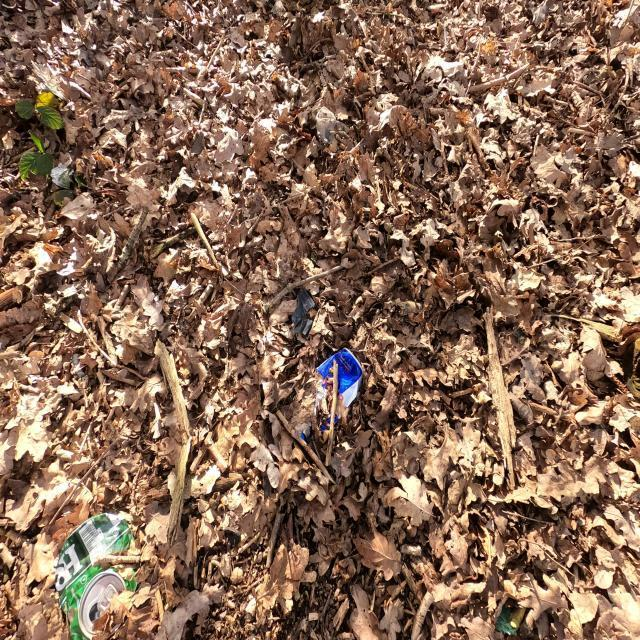Metal: (52, 510, 152, 640), (294, 344, 366, 452)
